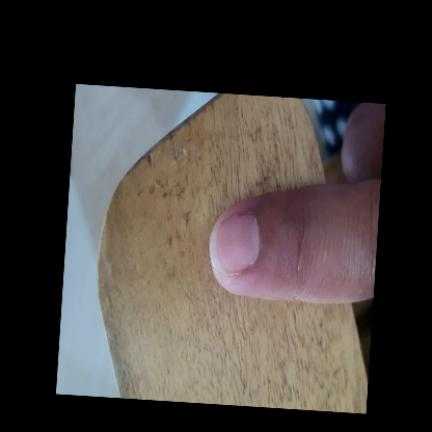Nail: (209, 214, 257, 275)
